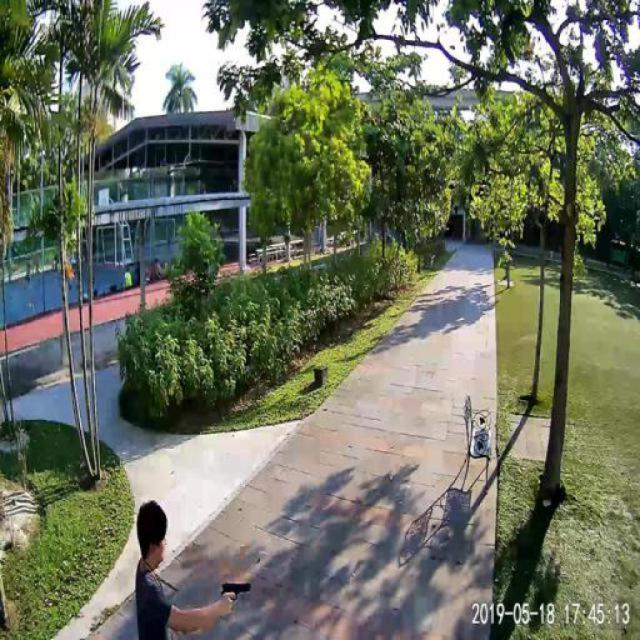pistol: (217, 577, 251, 615)
